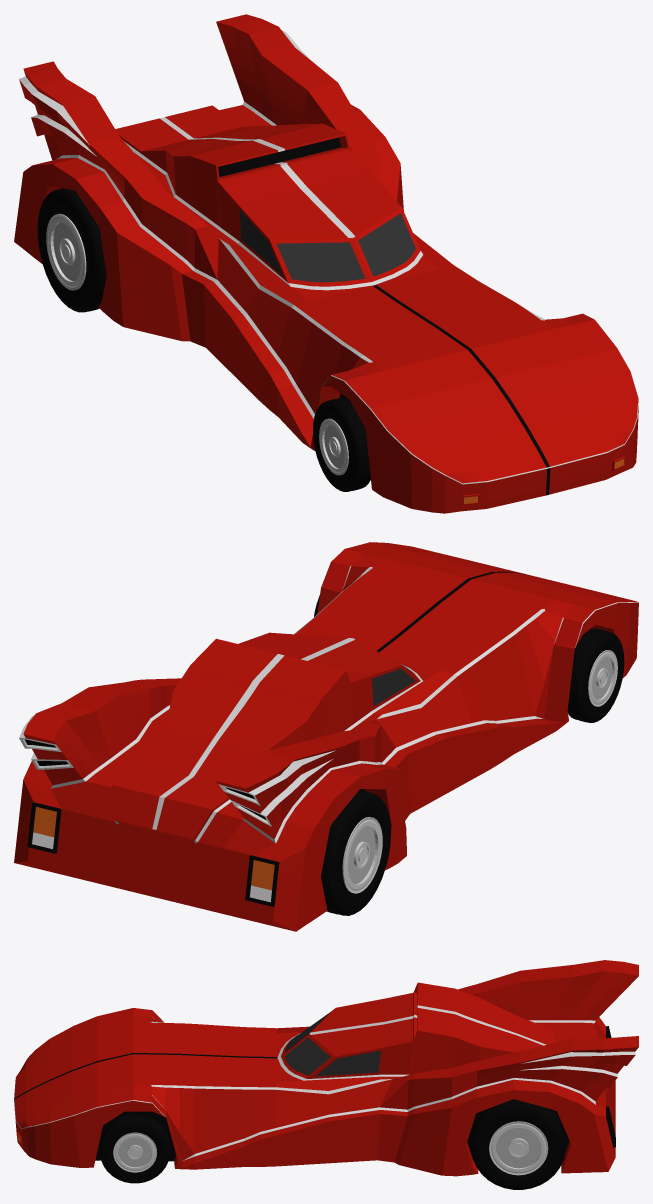
3 views of the same model, one above another, from view 1: azimuth 30°, elevation 25°; view 2: azimuth 150°, elevation 25°; view 3: azimuth 270°, elevation 25° (orthographic). The views are drawn at different scales.
Parts seen in each view (by area): view 1: Body35, wheel.003, wheel.004; view 2: Body35, wheel.003, wheel.004; view 3: Body35, wheel.1, wheel.2.
Part boxes in pixels (x1,y1,x2,y2): Body35: [14, 14, 638, 513]; wheel.003: [37, 188, 106, 312]; wheel.004: [313, 398, 370, 491]; Body35: [14, 542, 638, 931]; wheel.003: [321, 790, 390, 915]; wheel.004: [567, 629, 624, 722]; Body35: [14, 960, 638, 1176]; wheel.1: [470, 1099, 566, 1189]; wheel.2: [99, 1114, 170, 1183].
Bounding box in the file's own units: 113 × 63.59 × 272.
